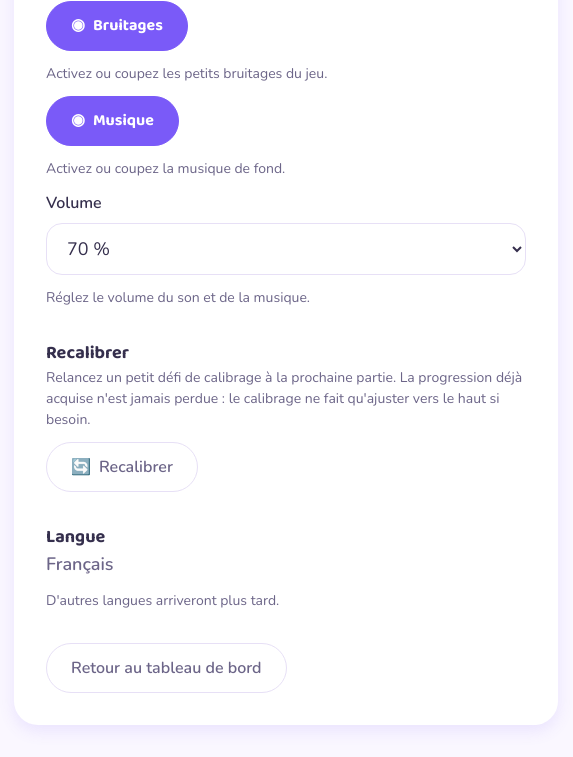
Test case: SettingsForm — recalibrer (story 7.6, ADR 0016) › confirmer ⇒ requestRecalibrationAction() appelé + confirmation succès + panneau refermé + refresh
(page scrolled)
Click the button "🔄 Recalibrer".
click(122, 467)  # box top-left (46, 442), bottom-right (198, 492)
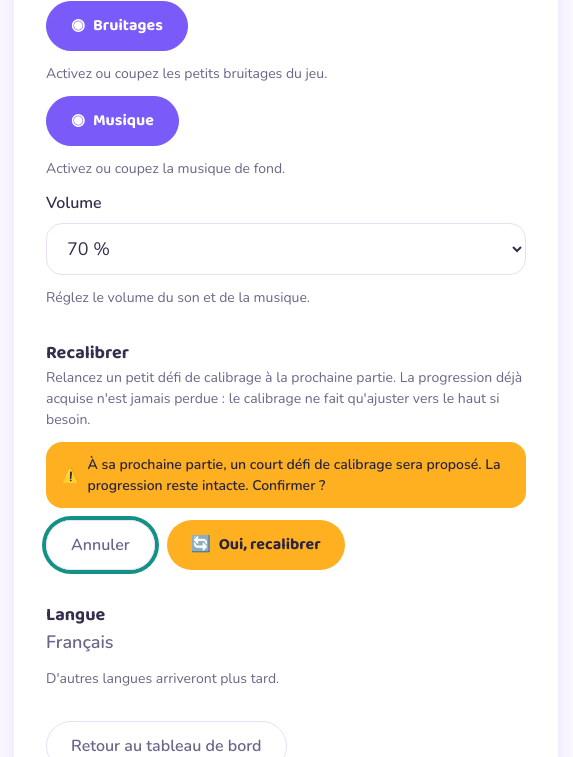
Click the button "🔄 Oui, recalibrer".
click(256, 545)  # box top-left (167, 520), bottom-right (345, 570)
(page scrolled)
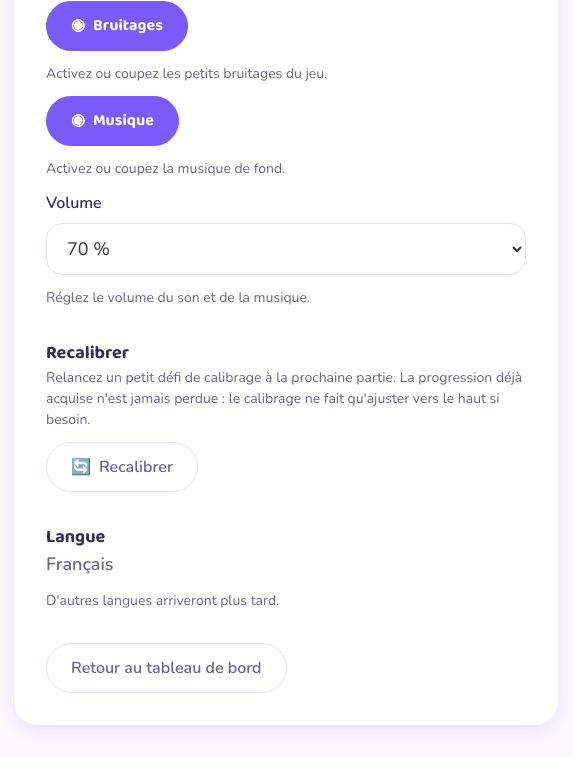
Expected: the button "🔄 Recalibrer" is shown, top-left (46, 442), bottom-right (198, 492)
Expected: the button "Oui, recalibrer" is gone
